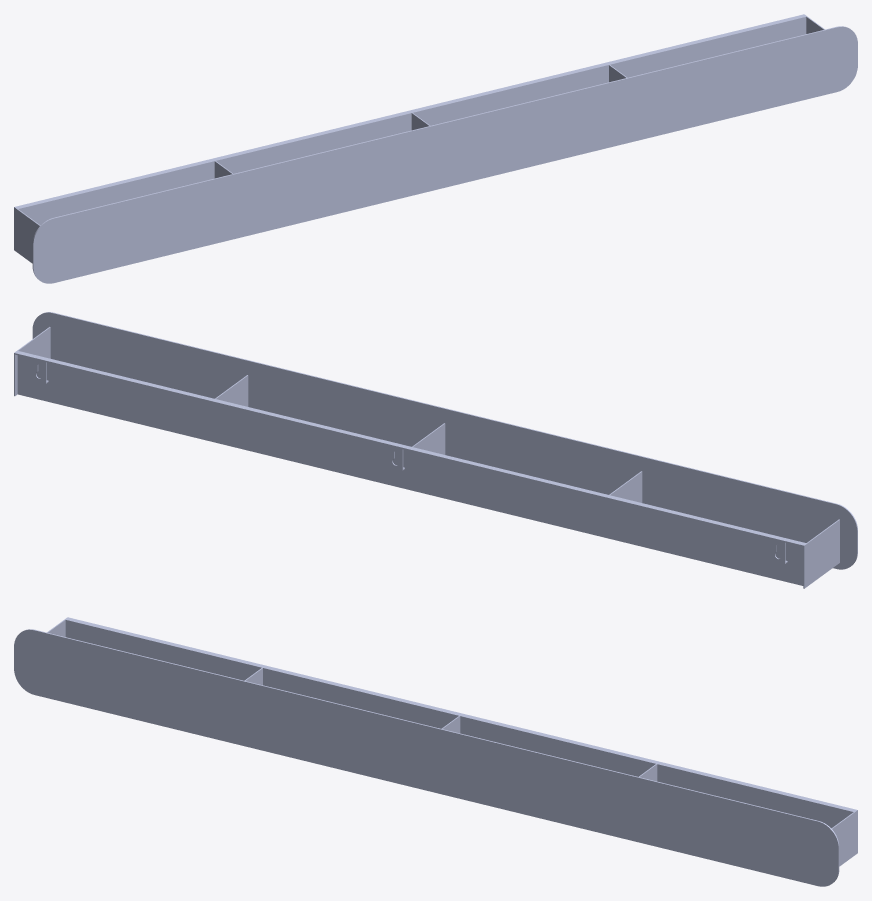
Rendered from radius-mono.5ed69b4c4e.glb.
3 renders of one model, top to bottom at view 1: azimuth 30°, elevation 25°; view 2: azimuth 150°, elevation 25°; view 3: azimuth 330°, elevation 25°, orthographic.
Visible parts, largest first — view 1: NAUO1; view 2: NAUO1; view 3: NAUO1.
Part boxes in pixels (x1,y1,x2,y2): NAUO1: (14,14,857,283); NAUO1: (14,312,857,588); NAUO1: (14,617,857,886).
Size of the model in its own units: 1.2 by 0.0899 by 0.092.
